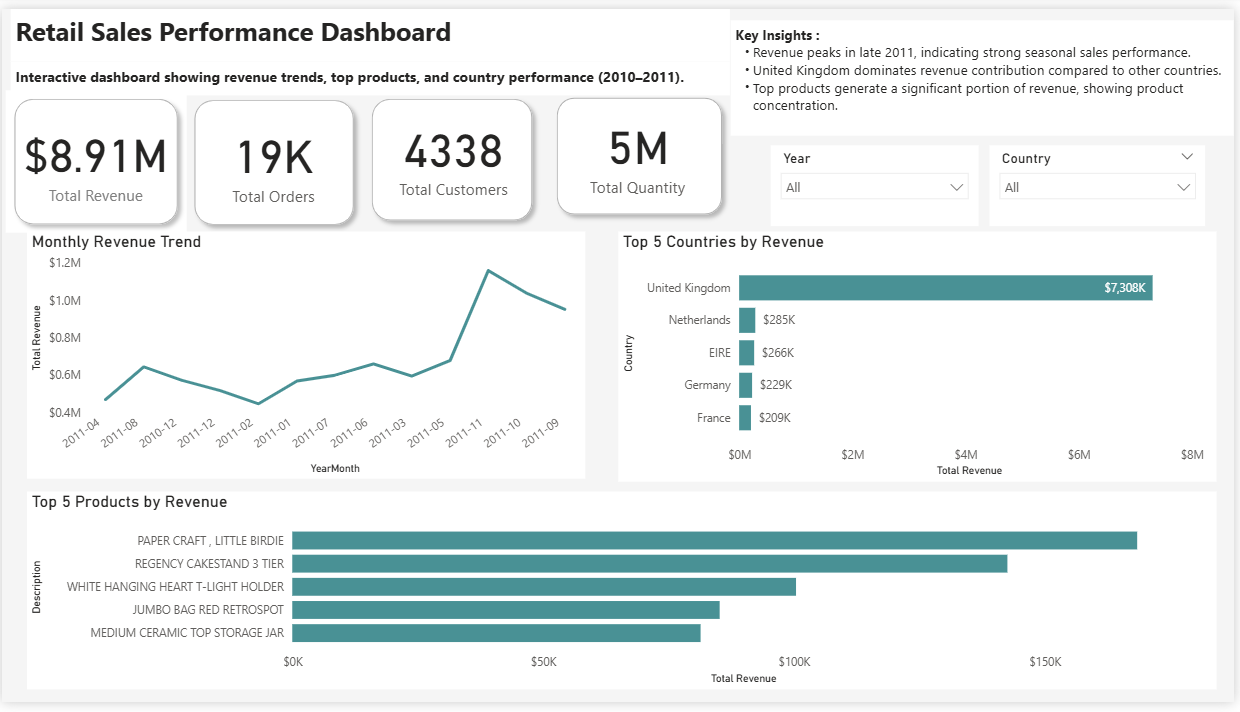

The page's visual inventory and layout, read from the dashboard file:
{"tool":"powerbi","page":{"name":"Sales Overview","canvas":[1280,720],"ordinal":0},"visuals":[{"type":"shape","box":[567.1,82.9,189.5,139.4],"z":0,"group":"g4"},{"type":"group","id":"g1","title":"Group 1","box":[4.3,84.3,187.1,147.1],"z":0},{"type":"shape","box":[4.3,84.3,187.7,148.3],"z":0,"group":"g1"},{"type":"shape","box":[375.7,84.3,184.6,144.3],"z":0,"group":"g2"},{"type":"shape","box":[191.4,85.7,183.6,147.5],"z":0,"group":"g3"},{"type":"group","id":"g2","title":"Group 3","box":[375.7,84.3,184.3,144.3],"z":1000},{"type":"card","fields":{"Values":["online_retail_clean_csv.Total Customers"]},"box":[388.6,87.8,162.1,128.1],"z":1000,"group":"g2"},{"type":"card","fields":{"Values":["online_retail_clean_csv.Total Revenue"]},"box":[8.8,88.6,179.9,139.8],"z":1000,"group":"g1"},{"type":"card","fields":{"Values":["online_retail_clean_csv.Total Quantity"]},"box":[592.5,99.3,134.2,99.6],"z":1000,"group":"g4"},{"type":"card","fields":{"Values":["online_retail_clean_csv.Total Orders"]},"box":[222.1,112,120.7,94.3],"z":1000,"group":"g3"},{"type":"group","id":"g3","title":"Group 2","box":[191.4,85.7,182.9,147.1],"z":2000},{"type":"lineChart","title":"Monthly Revenue Trend","fields":{"Category":["DateTable.YearMonth"],"Y":["online_retail_clean_csv.Total Revenue"]},"box":[25.7,231.4,580,257.1],"z":3000},{"type":"clusteredBarChart","title":"Top 5 Countries by Revenue","fields":{"Category":["online_retail_clean_csv.Country"],"Y":["online_retail_clean_csv.Total Revenue"]},"box":[640,231.4,621.4,260],"z":4000},{"type":"clusteredBarChart","title":"Top 5 Products by Revenue","fields":{"Category":["online_retail_clean_csv.Description"],"Y":["online_retail_clean_csv.Total Revenue"]},"box":[25.7,501.4,1235.7,205.7],"z":5000},{"type":"textbox","box":[8.9,0,746.8,54.4],"z":6000},{"type":"slicer","fields":{"Values":["DateTable.Year"]},"box":[798.6,141.4,215.7,84.3],"z":7000},{"type":"slicer","fields":{"Values":["online_retail_clean_csv.Country"]},"box":[1025.7,141.4,224.3,84.3],"z":8000},{"type":"textbox","box":[8.9,54.4,746.8,35.4],"z":9000},{"type":"group","id":"g4","title":"Group 2","box":[567.1,82.9,188.6,138.6],"z":10000},{"type":"textbox","box":[757,11.4,522.8,120.3],"z":11000}]}

Visuals, with their boxes in screenshot pixels (x1, y1, x2, y2), scaled from the page's 1280x720 canvas onto the 1240x712 screenshot:
shape: locate(549, 82, 733, 220)
"Group 1" group: locate(4, 83, 185, 229)
shape: locate(4, 83, 186, 230)
shape: locate(364, 83, 543, 226)
shape: locate(185, 85, 363, 231)
"Group 3" group: locate(364, 83, 542, 226)
card - online_retail_clean_csv.Total Customers: locate(376, 87, 533, 214)
card - online_retail_clean_csv.Total Revenue: locate(9, 88, 183, 226)
card - online_retail_clean_csv.Total Quantity: locate(574, 98, 704, 197)
card - online_retail_clean_csv.Total Orders: locate(215, 111, 332, 204)
"Group 2" group: locate(185, 85, 363, 230)
"Monthly Revenue Trend" lineChart: locate(25, 229, 587, 483)
"Top 5 Countries by Revenue" clusteredBarChart: locate(620, 229, 1222, 486)
"Top 5 Products by Revenue" clusteredBarChart: locate(25, 496, 1222, 699)
textbox: locate(9, 0, 732, 54)
slicer - DateTable.Year: locate(774, 140, 983, 223)
slicer - online_retail_clean_csv.Country: locate(994, 140, 1211, 223)
textbox: locate(9, 54, 732, 89)
"Group 2" group: locate(549, 82, 732, 219)
textbox: locate(733, 11, 1239, 130)
